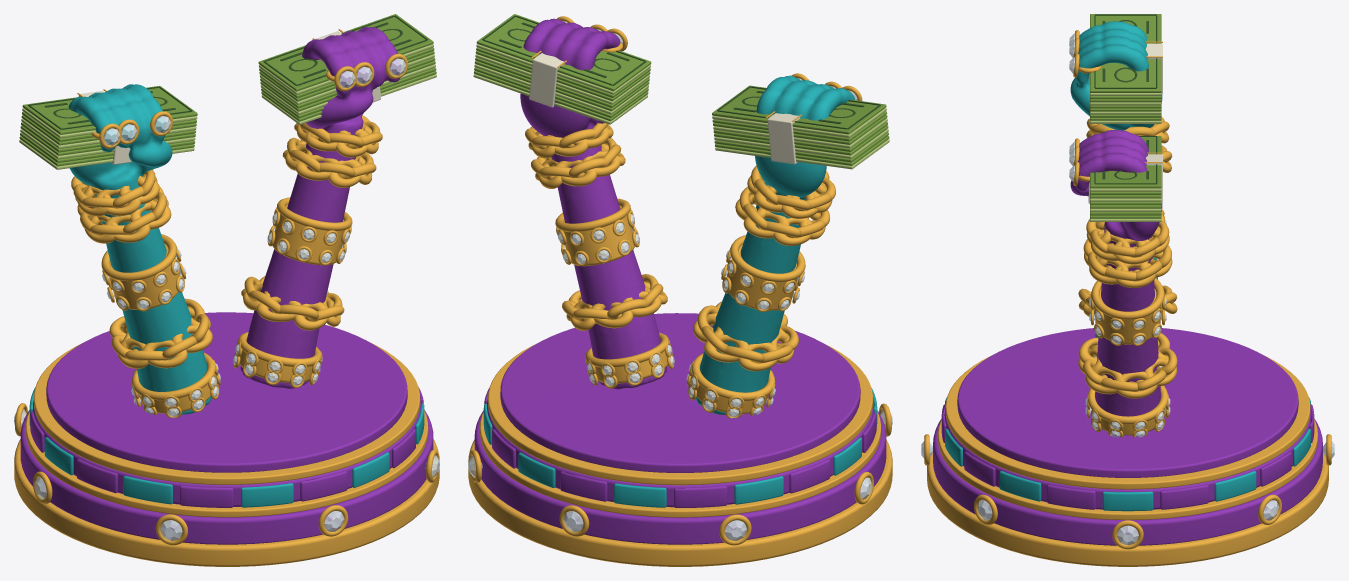
Rendered from wealth-statue.glb.
3 renders of one model, left to right at view 1: azimuth 30°, elevation 25°; view 2: azimuth 150°, elevation 25°; view 3: azimuth 270°, elevation 25°, orthographic. The views are drawn at different scales.
Visible parts, largest first — view 1: Pedestal | inset top, Right | jeweled arm and gripping hand, Left | jeweled arm and gripping hand, Pedestal | enamel drum, Pedestal | lower gold foot, Pedestal | upper gold rim, Pedestal | middle gold rim, Right | banknotes 10, Pedestal | tiled upper tier, Left | banknotes 10, Right diamond cuff | band, Pedestal | enamel tile 13 (+15 smaller); view 2: Pedestal | inset top, Right | jeweled arm and gripping hand, Left | jeweled arm and gripping hand, Pedestal | enamel drum, Pedestal | lower gold foot, Pedestal | upper gold rim, Pedestal | middle gold rim, Right | banknotes 10, Left | banknotes 10, Pedestal | tiled upper tier, Right diamond cuff | band, Right | money band (+36 smaller); view 3: Pedestal | inset top, Pedestal | enamel drum, Pedestal | lower gold foot, Right | jeweled arm and gripping hand, Pedestal | upper gold rim, Pedestal | middle gold rim, Left | jeweled arm and gripping hand, Left | banknotes 10, Pedestal | tiled upper tier, Right | banknotes 10, Pedestal | enamel tile 00, Right diamond cuff | gold rim (+8 smaller).
Part boxes in pixels (left/top/right/bottom): Pedestal | inset top: left=46, top=312, right=407, bottom=472; Right | jeweled arm and gripping hand: left=240, top=27, right=400, bottom=388; Left | jeweled arm and gripping hand: left=68, top=84, right=211, bottom=414; Pedestal | enamel drum: left=20, top=410, right=433, bottom=544; Pedestal | lower gold foot: left=14, top=439, right=439, bottom=566; Pedestal | upper gold rim: left=33, top=342, right=420, bottom=484; Pedestal | middle gold rim: left=25, top=411, right=428, bottom=517; Right | banknotes 10: left=258, top=14, right=433, bottom=91; Pedestal | tiled upper tier: left=32, top=400, right=421, bottom=506; Left | banknotes 10: left=22, top=86, right=197, bottom=134; Right diamond cuff | band: left=272, top=204, right=344, bottom=265; Pedestal | enamel tile 13: left=180, top=485, right=233, bottom=507; Pedestal | inset top: left=500, top=313, right=860, bottom=472; Right | jeweled arm and gripping hand: left=520, top=18, right=666, bottom=389; Left | jeweled arm and gripping hand: left=696, top=75, right=854, bottom=414; Pedestal | enamel drum: left=474, top=410, right=886, bottom=544; Pedestal | lower gold foot: left=468, top=439, right=892, bottom=566; Pedestal | upper gold rim: left=488, top=343, right=872, bottom=485; Pedestal | middle gold rim: left=480, top=411, right=880, bottom=517; Right | banknotes 10: left=476, top=14, right=651, bottom=91; Left | banknotes 10: left=712, top=85, right=886, bottom=134; Pedestal | tiled upper tier: left=487, top=399, right=873, bottom=507; Right diamond cuff | band: left=563, top=205, right=634, bottom=266; Right | money band: left=529, top=53, right=564, bottom=107; Pedestal | inset top: left=957, top=328, right=1298, bottom=477; Pedestal | enamel drum: left=933, top=419, right=1322, bottom=545; Pedestal | lower gold foot: left=927, top=453, right=1328, bottom=566; Right | jeweled arm and gripping hand: left=1070, top=130, right=1162, bottom=430; Pedestal | upper gold rim: left=945, top=355, right=1310, bottom=489; Pedestal | middle gold rim: left=938, top=420, right=1317, bottom=520; Left | jeweled arm and gripping hand: left=1070, top=21, right=1162, bottom=337; Left | banknotes 10: left=1090, top=14, right=1161, bottom=92; Pedestal | tiled upper tier: left=944, top=408, right=1311, bottom=509; Right | banknotes 10: left=1090, top=136, right=1161, bottom=188; Pedestal | enamel tile 00: left=1102, top=491, right=1153, bottom=511; Right diamond cuff | gold rim: left=1091, top=278, right=1164, bottom=319.
Bounding box in the file's own units: 3.82 × 4.01 × 3.81.
